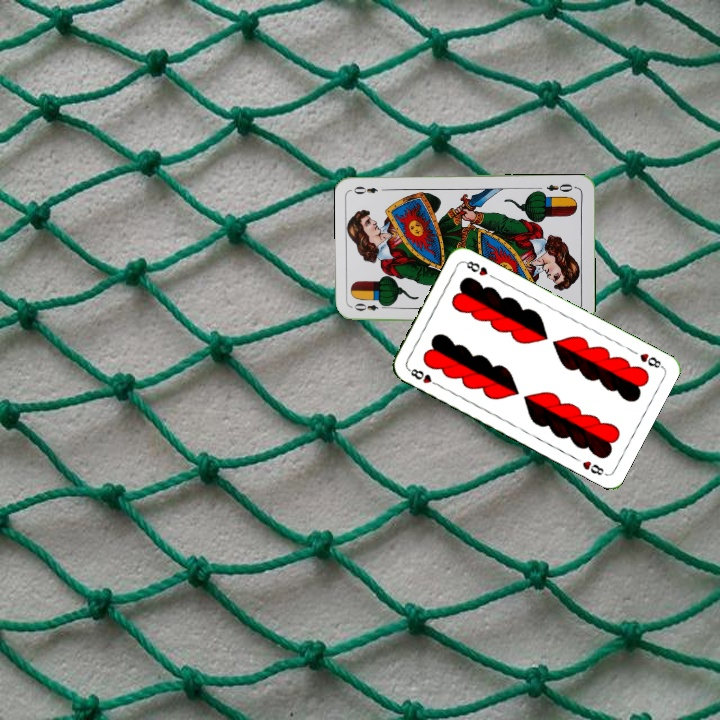EO: (350, 299, 390, 313), (542, 180, 578, 195)
H8: (404, 364, 442, 389), (636, 349, 665, 371)
